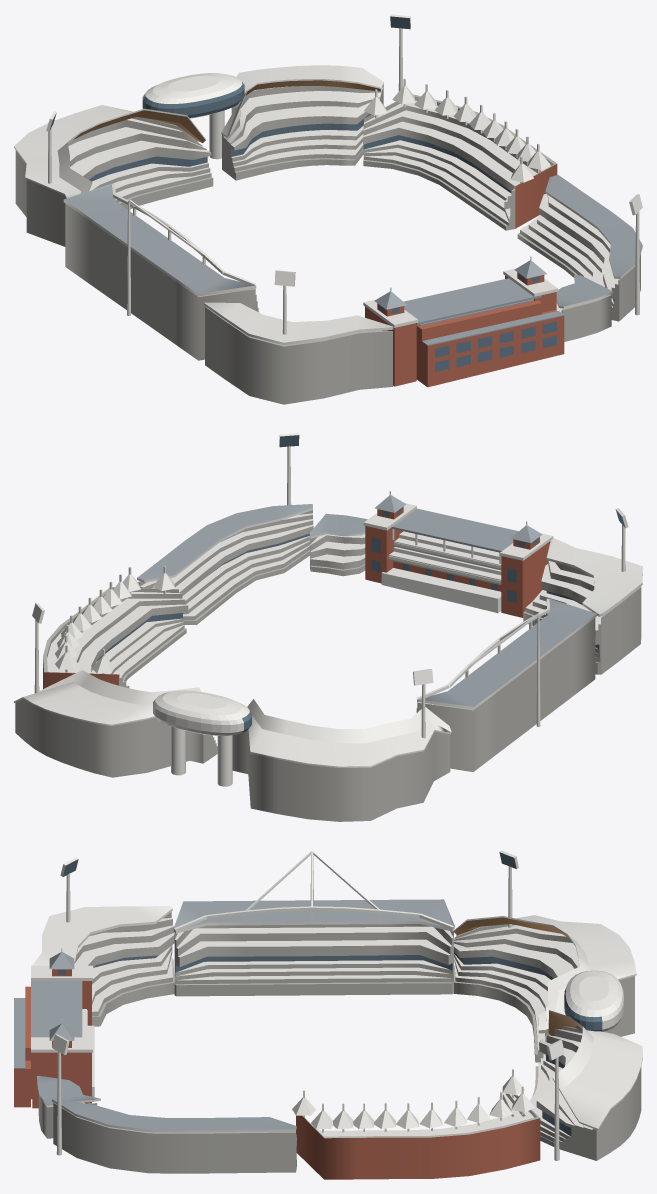
File: london-lords.glb
3 views of the same model, one above another, from view 1: azimuth 30°, elevation 25°; view 2: azimuth 150°, elevation 25°; view 3: azimuth 270°, elevation 25° (orthographic). The views are drawn at different scales.
Parts seen in each view (by area): view 1: Lord's Cricket Ground; view 2: Lord's Cricket Ground; view 3: Lord's Cricket Ground.
Part boxes in pixels (x1,y1,x2,y2): Lord's Cricket Ground: (14,14,642,404); Lord's Cricket Ground: (14,433,642,821); Lord's Cricket Ground: (14,850,642,1179).
Bounding box in the file's own units: 182 × 49.36 × 226.
